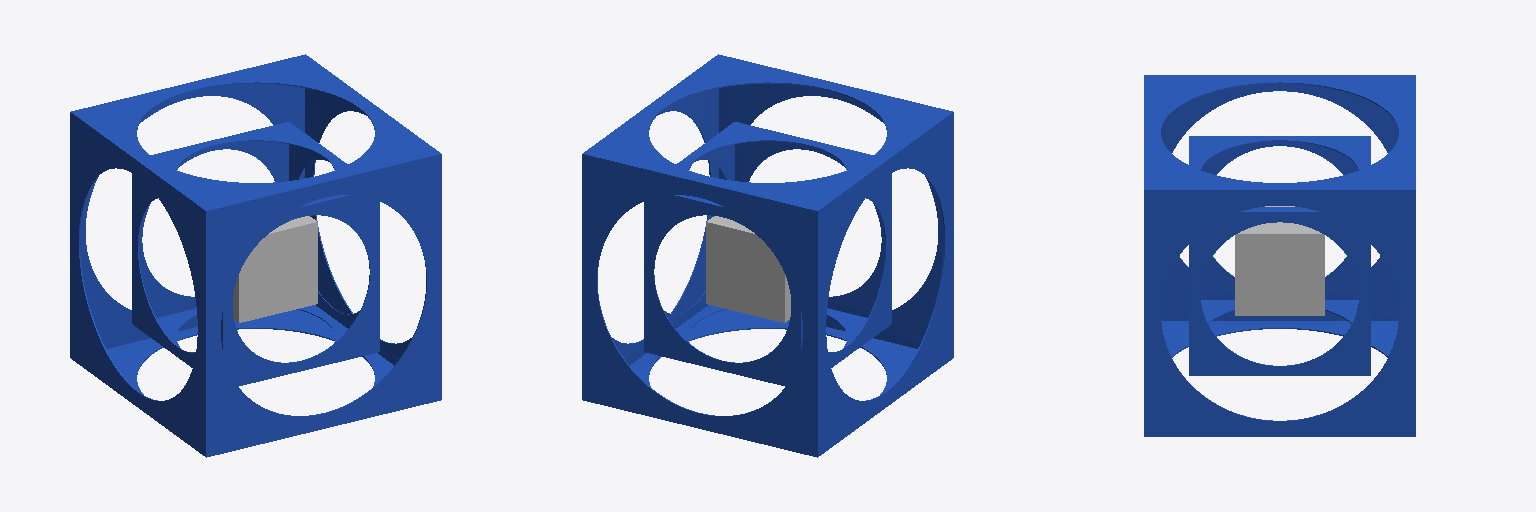
Rendered from multi_objs2.obj.
3 renders of one model, left to right at view 1: azimuth 30°, elevation 25°; view 2: azimuth 150°, elevation 25°; view 3: azimuth 270°, elevation 25°, orthographic.
Parts seen in each view (by area): view 1: Cube.002, Cube.001, Cube.003; view 2: Cube.002, Cube.001, Cube.003; view 3: Cube.002, Cube.001, Cube.003.
Part boxes in pixels (left/top/right/bottom): Cube.002: left=70, top=54, right=441, bottom=457; Cube.001: left=132, top=122, right=379, bottom=386; Cube.003: left=233, top=216, right=317, bottom=322; Cube.002: left=582, top=54, right=953, bottom=457; Cube.001: left=644, top=122, right=891, bottom=386; Cube.003: left=706, top=216, right=790, bottom=322; Cube.002: left=1144, top=75, right=1415, bottom=436; Cube.001: left=1189, top=136, right=1370, bottom=375; Cube.003: left=1235, top=206, right=1324, bottom=315.
Size of the model in its own units: 6 by 6 by 6.